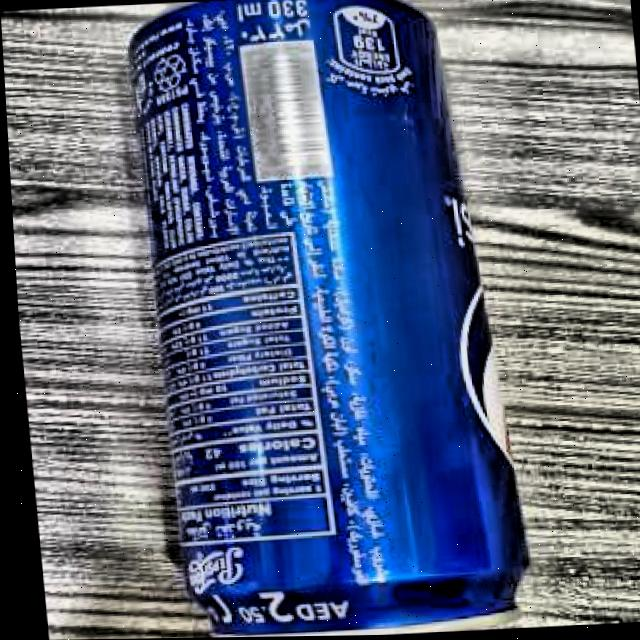metal: (128, 0, 521, 638)
